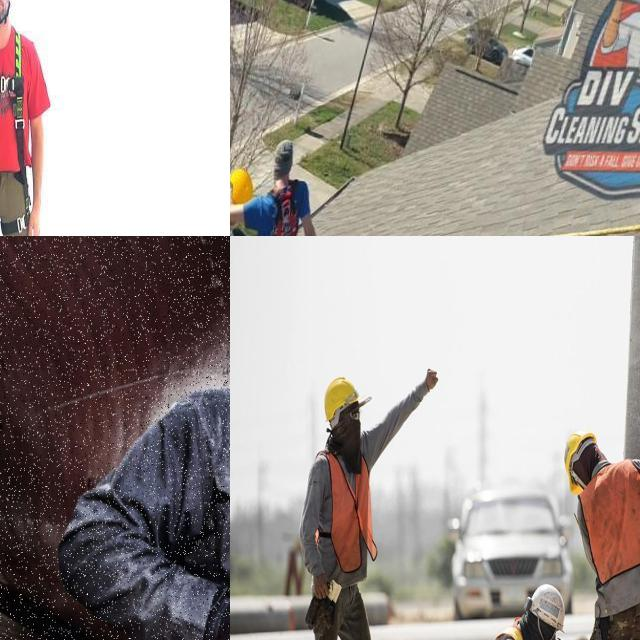Harness: (0, 31, 32, 235), (271, 181, 299, 236)
hand_noglove: (424, 353, 442, 396), (311, 574, 333, 606)
head_helmet: (562, 432, 599, 494), (523, 582, 567, 634), (324, 375, 359, 419)
person: (282, 360, 421, 640), (144, 236, 230, 640), (560, 431, 640, 640), (463, 582, 575, 640)
vest: (308, 444, 380, 594), (576, 466, 640, 581)
